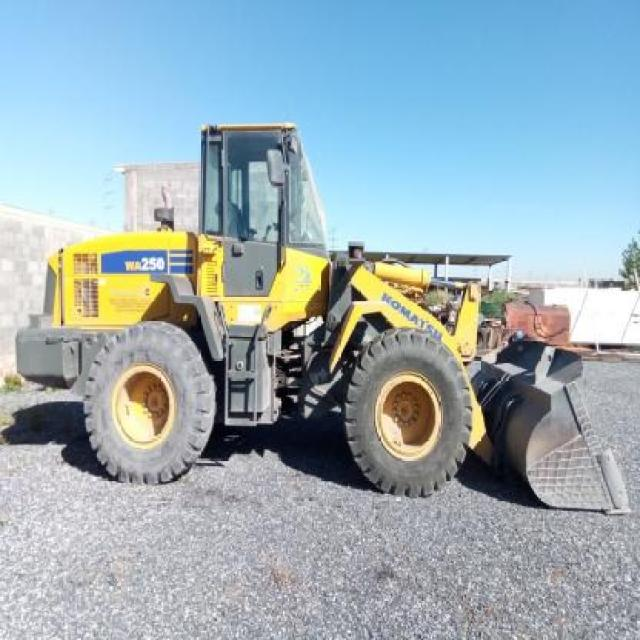buldozerpayloadergrader: (12, 123, 633, 522)
